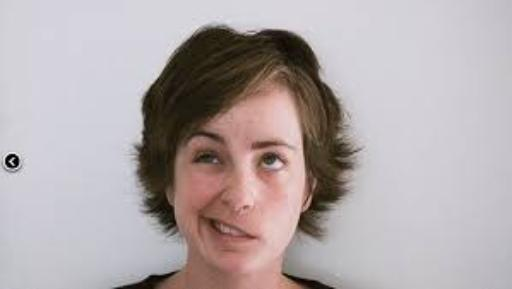left_eye: (257, 156, 290, 172)
left_lip_corner: (244, 229, 260, 245)
right_eye: (190, 153, 226, 168)
right_lip_corner: (204, 215, 218, 227)
